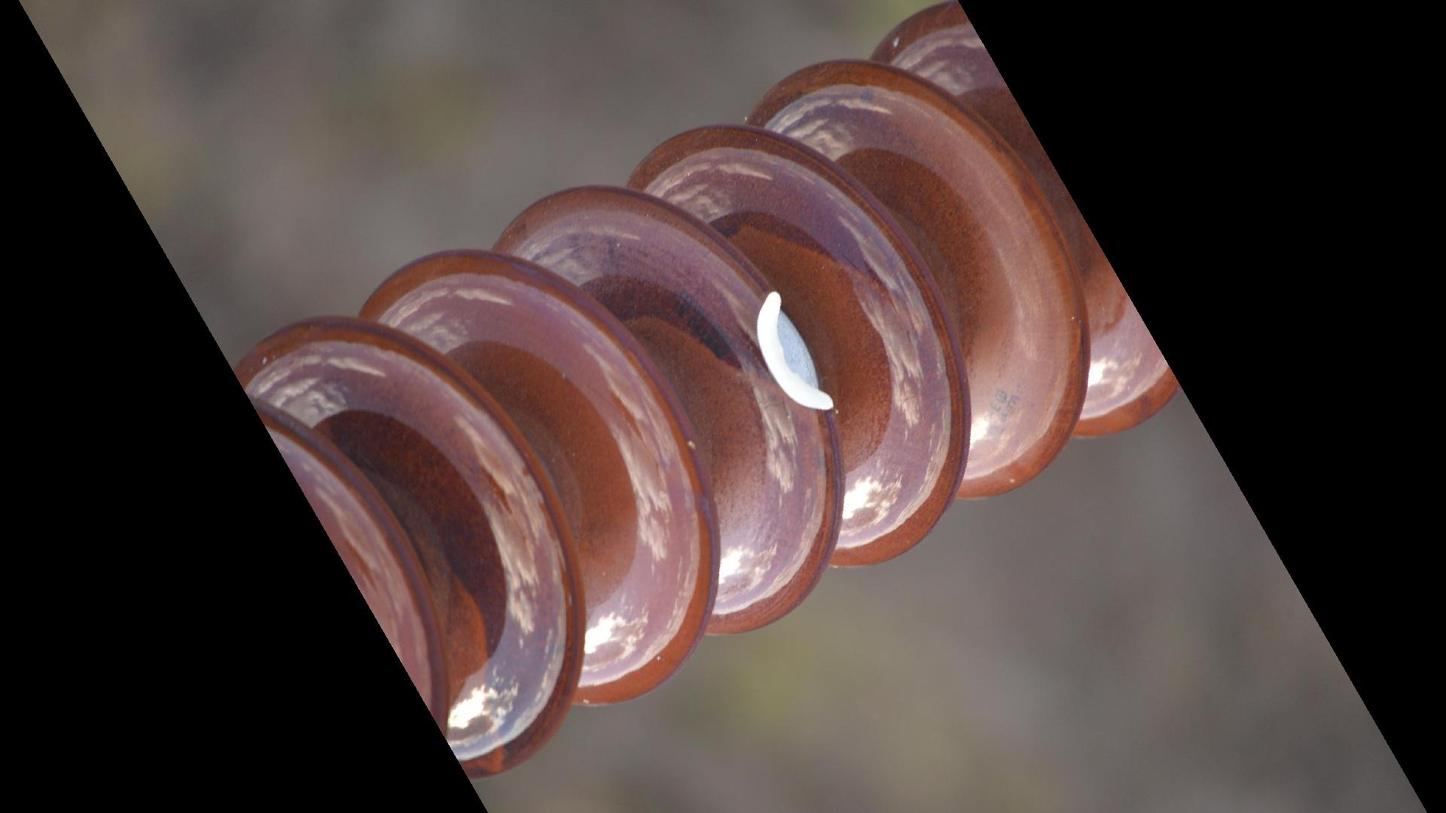insulator: (226, 1, 1189, 787)
insulator_breakage: (736, 276, 850, 427)
